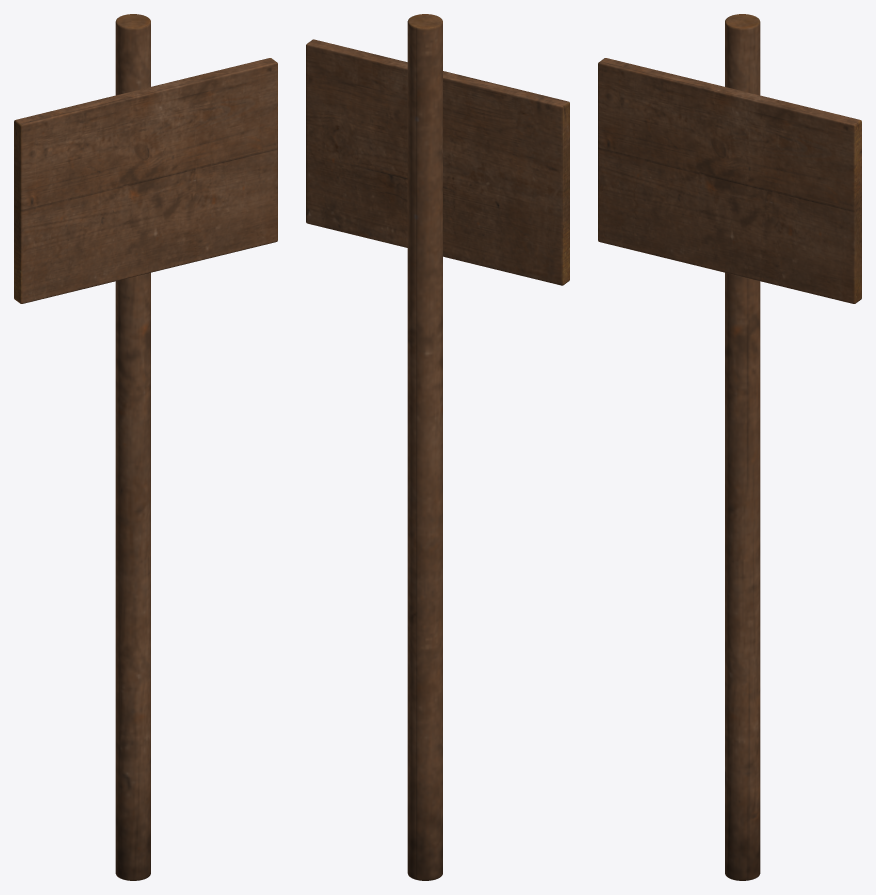
Rendered from Sign.obj.
3 views of the same model, side by side, from view 1: azimuth 30°, elevation 25°; view 2: azimuth 150°, elevation 25°; view 3: azimuth 330°, elevation 25° (orthographic).
Visible parts, largest first — view 1: Sign; view 2: Sign; view 3: Sign.
Boxes of the visible parts, x1,y1,x2,y2 form: Sign: (14, 14, 277, 880); Sign: (306, 14, 569, 880); Sign: (598, 14, 861, 880).
Size of the model in its own units: 0.6 by 1.9 by 0.1018.
Materials: 1 (1 with a texture image).
